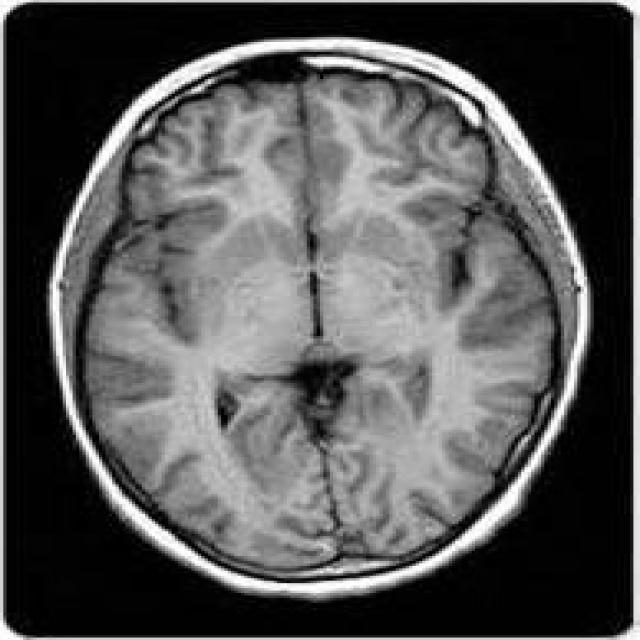notumor: (49, 40, 594, 605)
